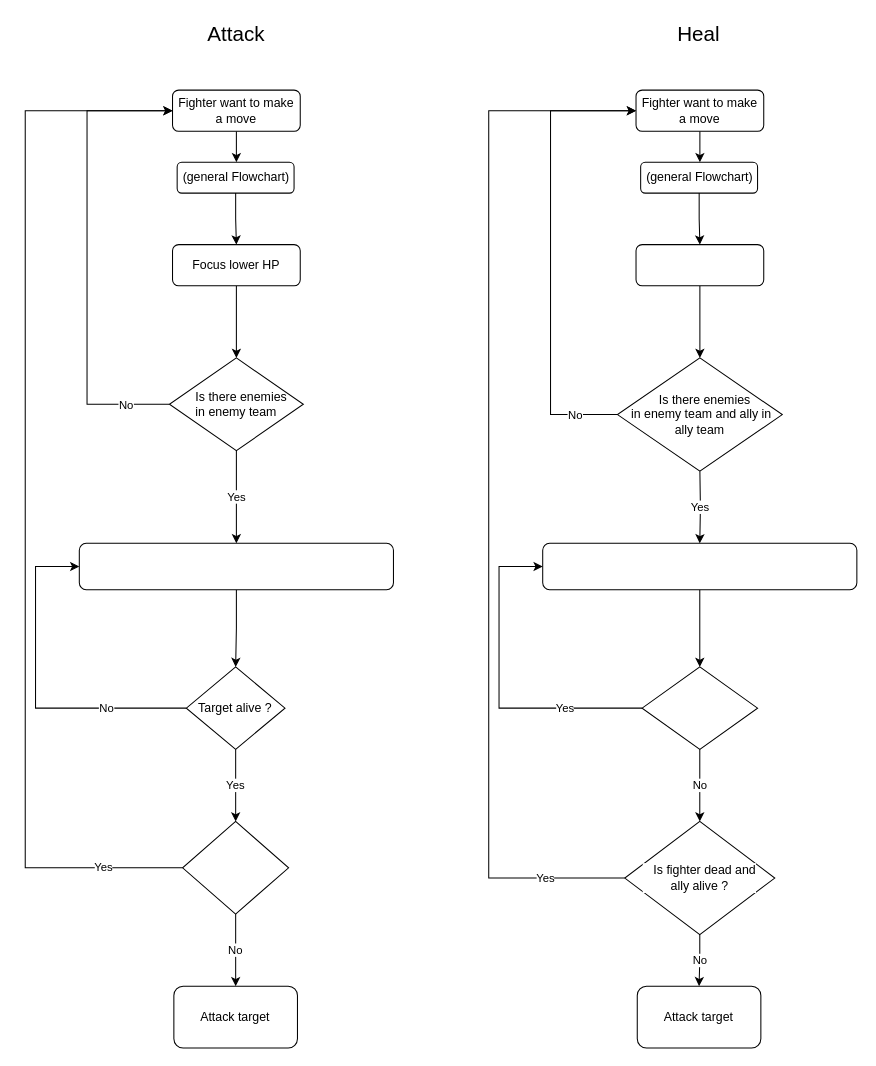
This 876x1066 diagram has some shape labels left out. Each missing label, with the centre of its shape:
ally = min(ally_team, k=lambda item.health_point): the point at 699,566
Focus heal lower HP: the point at 699,265
Is ally full health ?: the point at 699,707
Is fighter dead ?: the point at 235,867
target = min(enemy_team, k=lambda item.health_point): the point at 235,566
